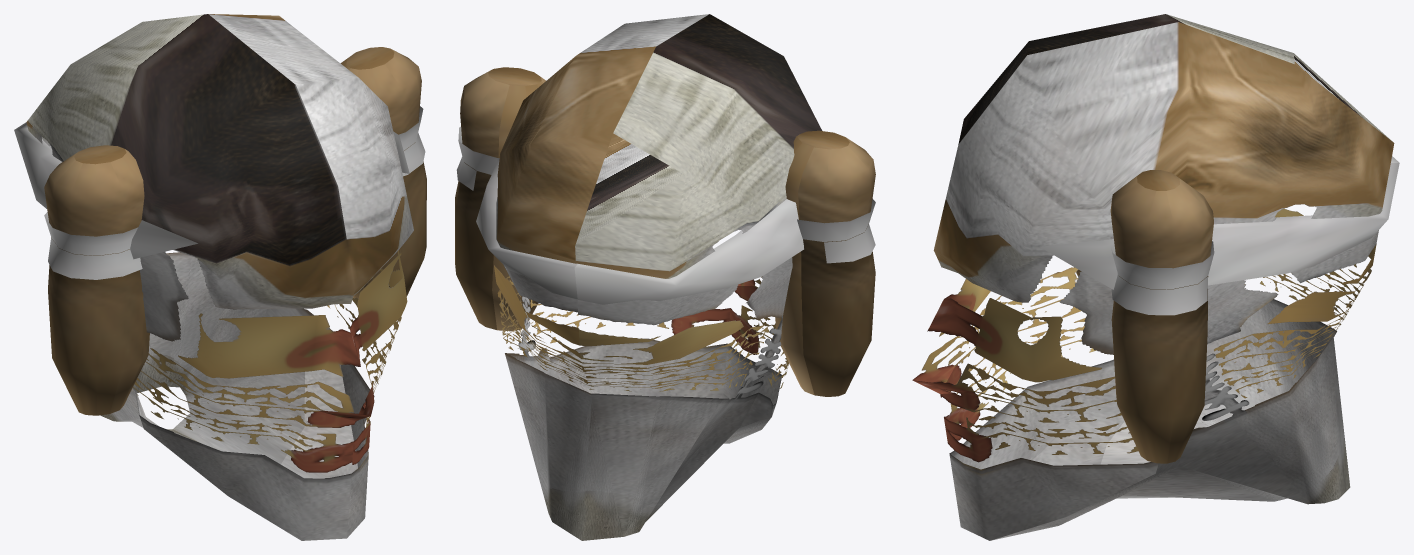
File: yayoi_isw_e_2.dae
3 views of the same model, side by side, from view 1: azimuth 30°, elevation 25°; view 2: azimuth 150°, elevation 25°; view 3: azimuth 270°, elevation 25° (orthographic). The views are drawn at different scales.
Parts seen in each view (by area): view 1: yayoi_isw_e_2; view 2: yayoi_isw_e_2; view 3: yayoi_isw_e_2.
Part boxes in pixels (<box>): yayoi_isw_e_2: <box>14,14,426,540</box>; yayoi_isw_e_2: <box>455,14,875,540</box>; yayoi_isw_e_2: <box>912,14,1399,540</box>.
Size of the model in its own units: 0.5463 by 0.562 by 0.6089.
